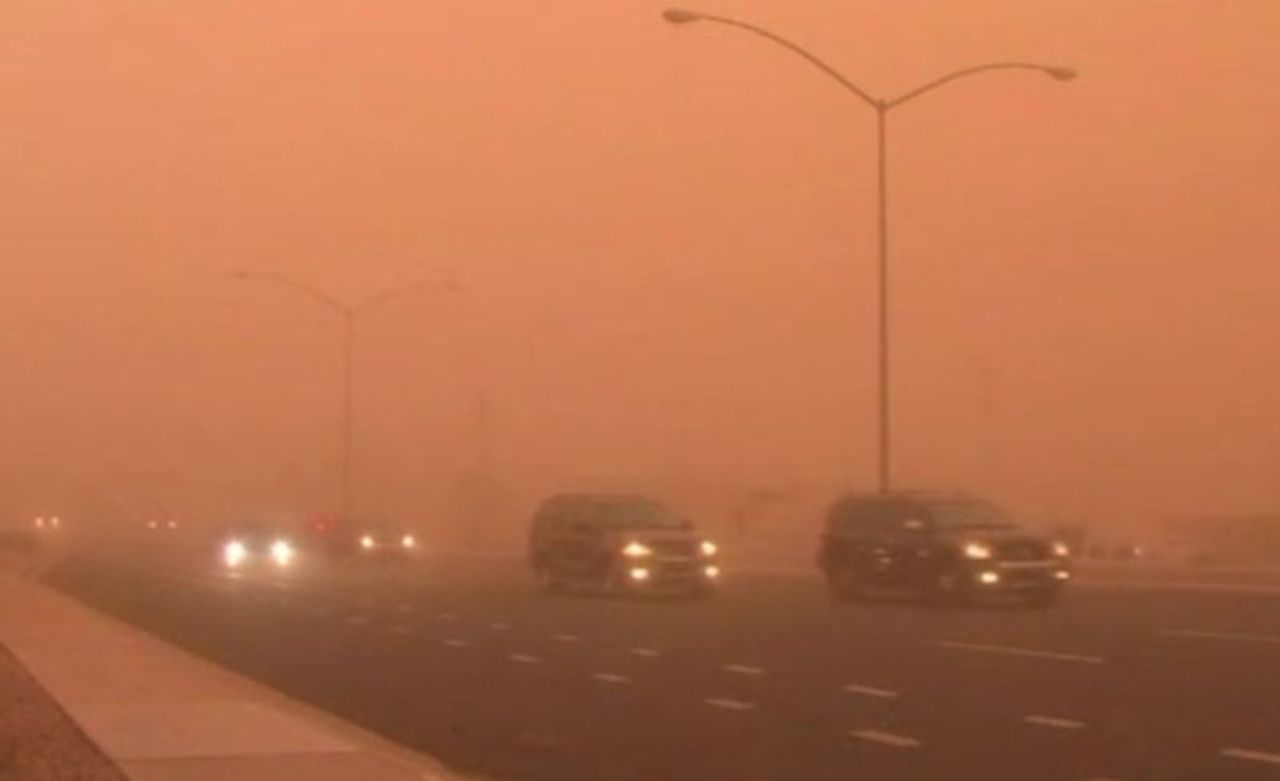car: (812, 486, 1071, 609), (528, 494, 720, 598), (210, 522, 296, 577), (321, 512, 412, 558), (136, 506, 179, 534)
